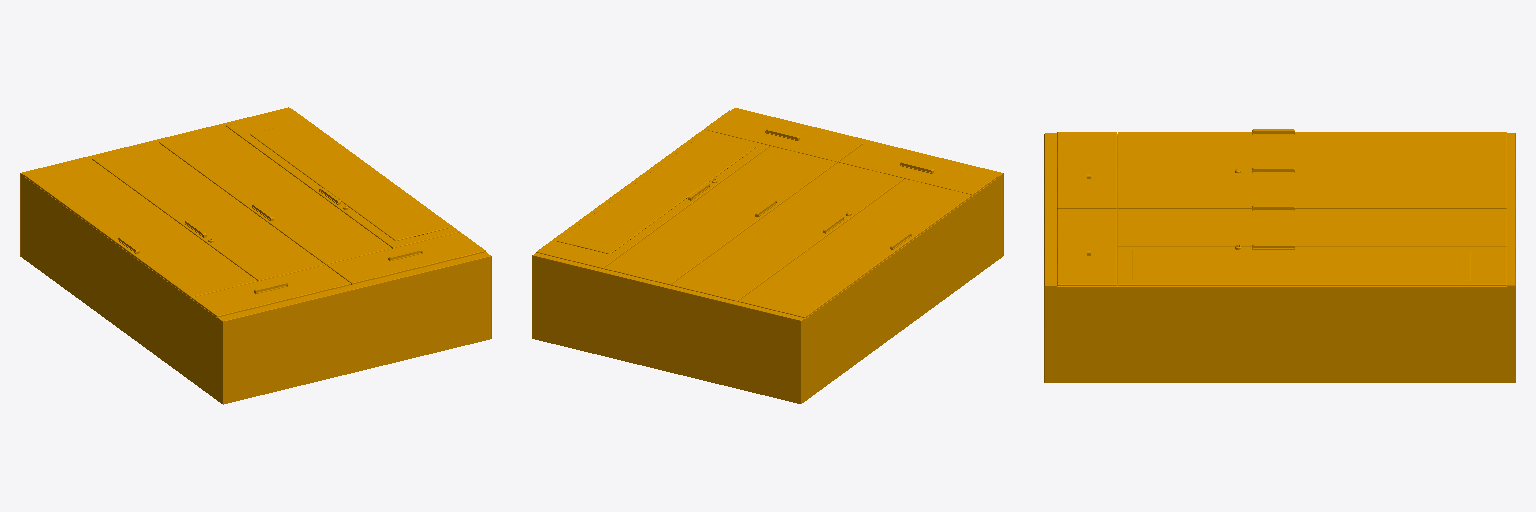
robot.urdf — none:
<robot name="none">
       <link name="none">
           <visual>
               <origin xyz="0 0 0" />
               <geometry>
                   <mesh filename="Wardrobe  4 door.obj"  scale="0.5 0.5 0.5"/>
               </geometry>
           </visual>
          <collision>
<origin rpy="1.57 0 0" xyz="0 0 1" />
              <geometry>
                  <box size="1.5 2 0.8" />
              </geometry>
          </collision>

          <inertial>
            <mass value="0.0" />
            <inertia ixx="0.05" ixy="0.0" ixz="0.0" iyy="0.05" iyz="0.0" izz="0.05"/>
          </inertial>
      </link>
  </robot>

--- Facts derived from the render (not from the file) ---
3 views of the same robot in one strip: view 1: azimuth 30°, elevation 25°; view 2: azimuth 150°, elevation 25°; view 3: azimuth 270°, elevation 25° (orthographic).
Model none with 1 links and 0 joints (none), rooted at none, posed all joints at 0.
Visible links, largest first — view 1: none; view 2: none; view 3: none.
Link boxes in pixels (x1,y1,x2,y2): none: [20, 107, 491, 404]; none: [532, 108, 1003, 403]; none: [1044, 129, 1515, 382].
Size in the robot's own frame: 1 by 1.3 by 0.3126 metres.
Meshes: 1 distinct files referenced, 1 mesh visuals loaded (1 OBJ).